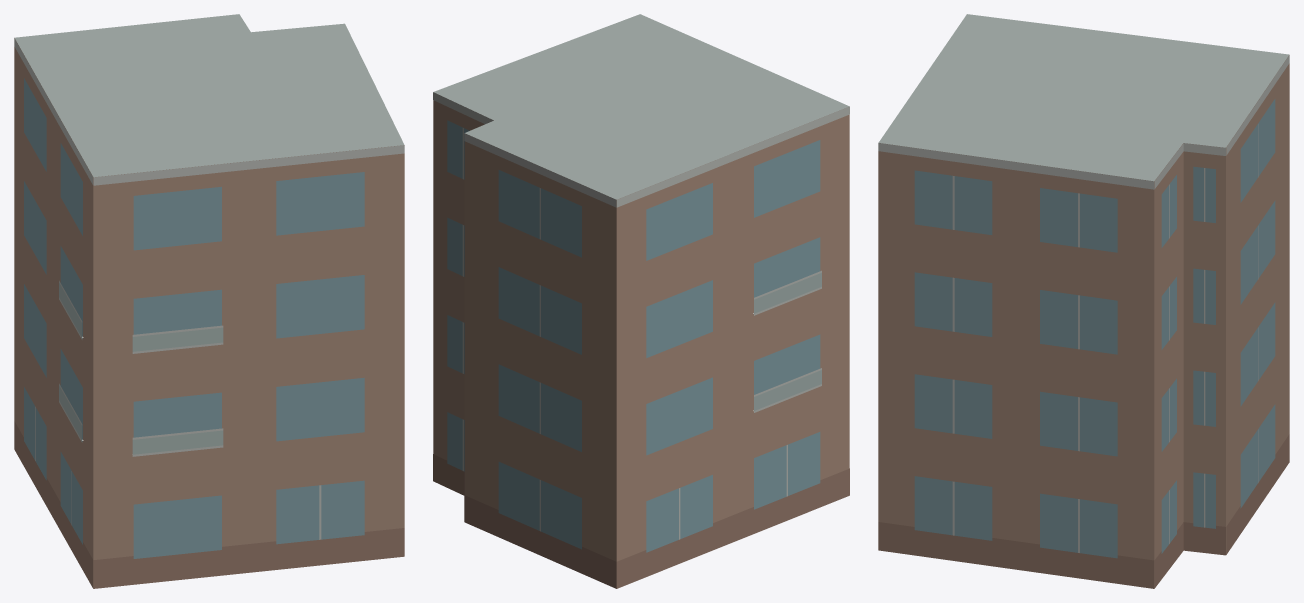
The model's file is survey-upis-32636654.glb.
The picture shows the model from 3 angles, left to right: view 1: azimuth 30°, elevation 25°; view 2: azimuth 150°, elevation 25°; view 3: azimuth 270°, elevation 25°; orthographic projection. The views are drawn at different scales.
Parts seen in each view (by area): view 1: survey-upis-32636654.tmp; view 2: survey-upis-32636654.tmp; view 3: survey-upis-32636654.tmp.
Boxes of the visible parts, x1,y1,x2,y2 form: survey-upis-32636654.tmp: [14, 14, 404, 588]; survey-upis-32636654.tmp: [433, 14, 849, 588]; survey-upis-32636654.tmp: [878, 14, 1289, 588].
Bounding box in the file's own units: 10.46 × 11.87 × 10.86.
